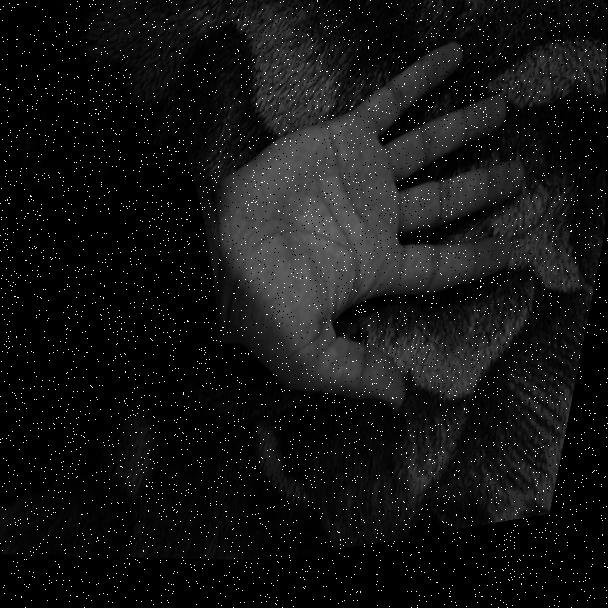five: (184, 7, 560, 473)
